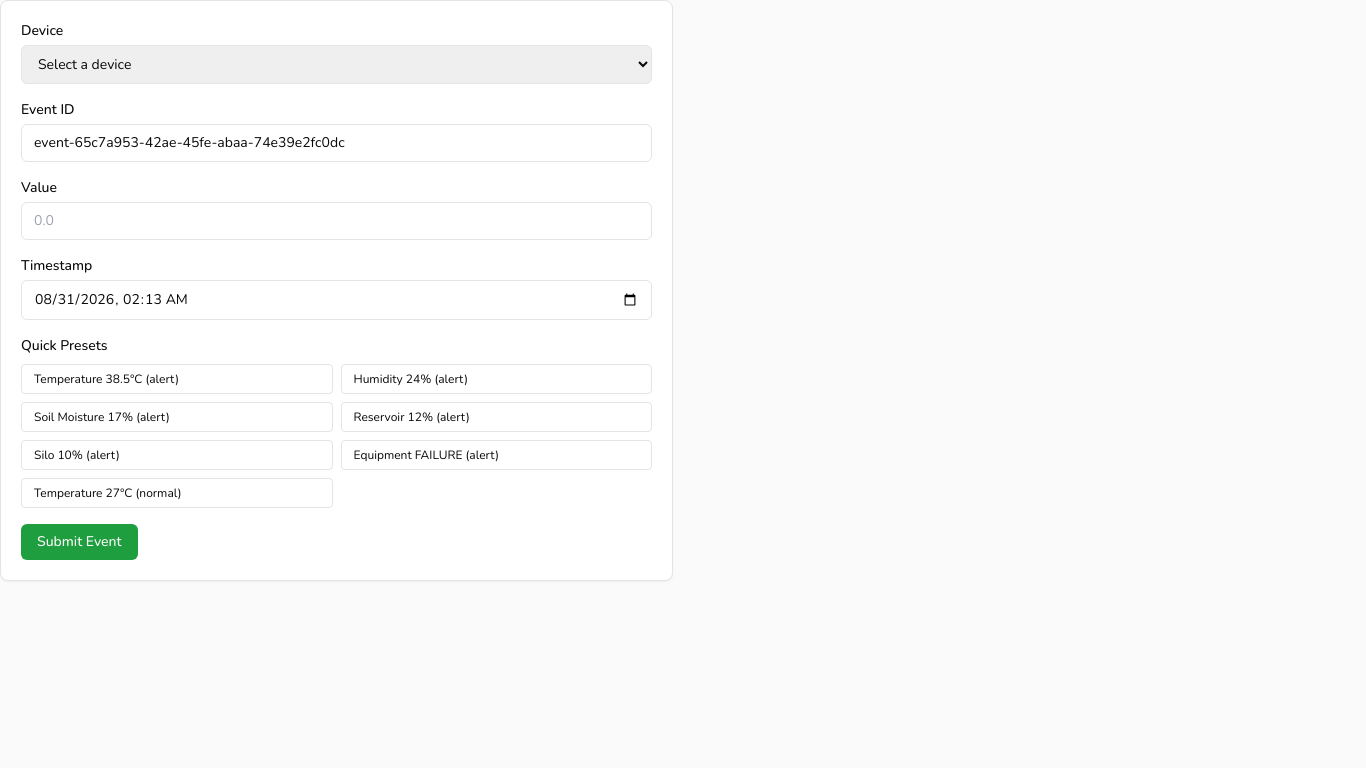
SimulatorForm › shows duplicate feedback when response has duplicate flag
Select "Temp Sensor (sensor-temp-01)" in the dropdown labelled "Device": (336, 64) [21,45,652,84]
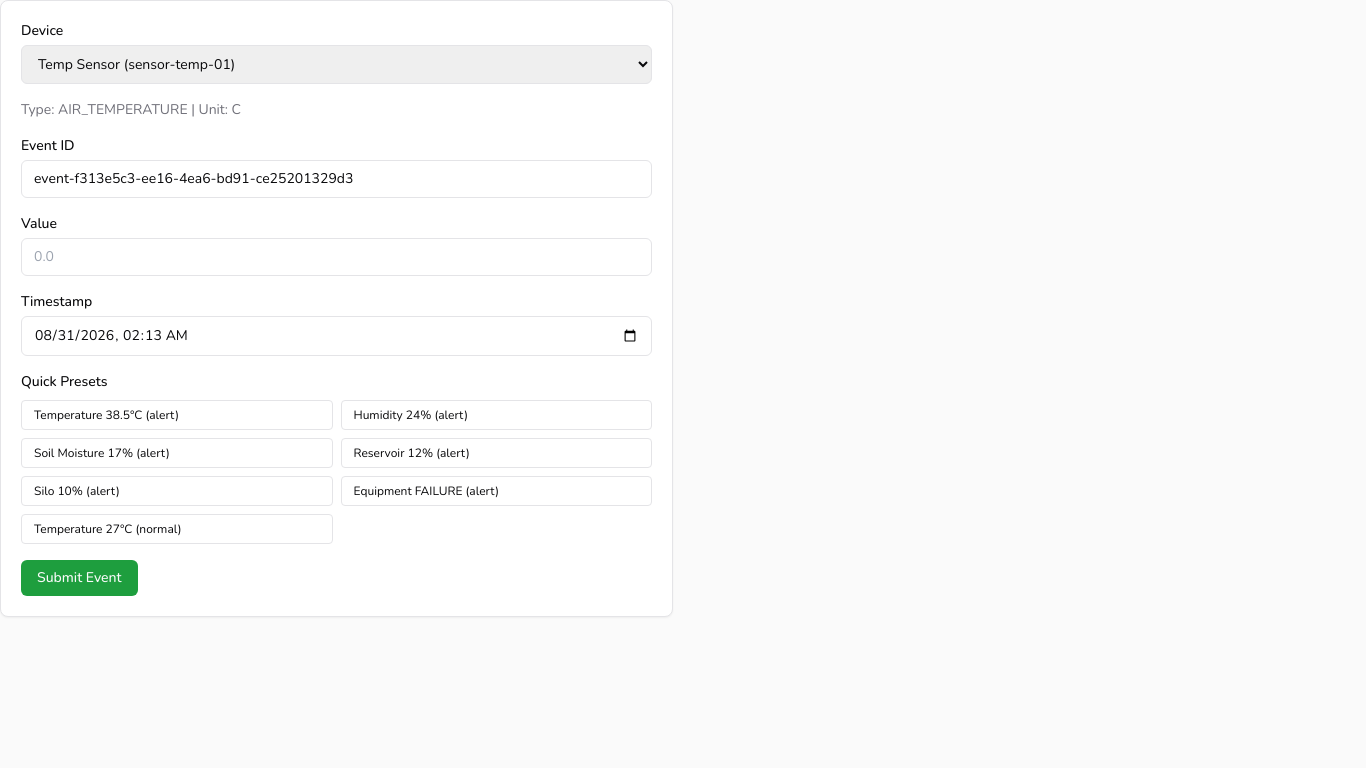
In the number field labelled "Value": (336, 257) [21,238,652,276], type "38.5"
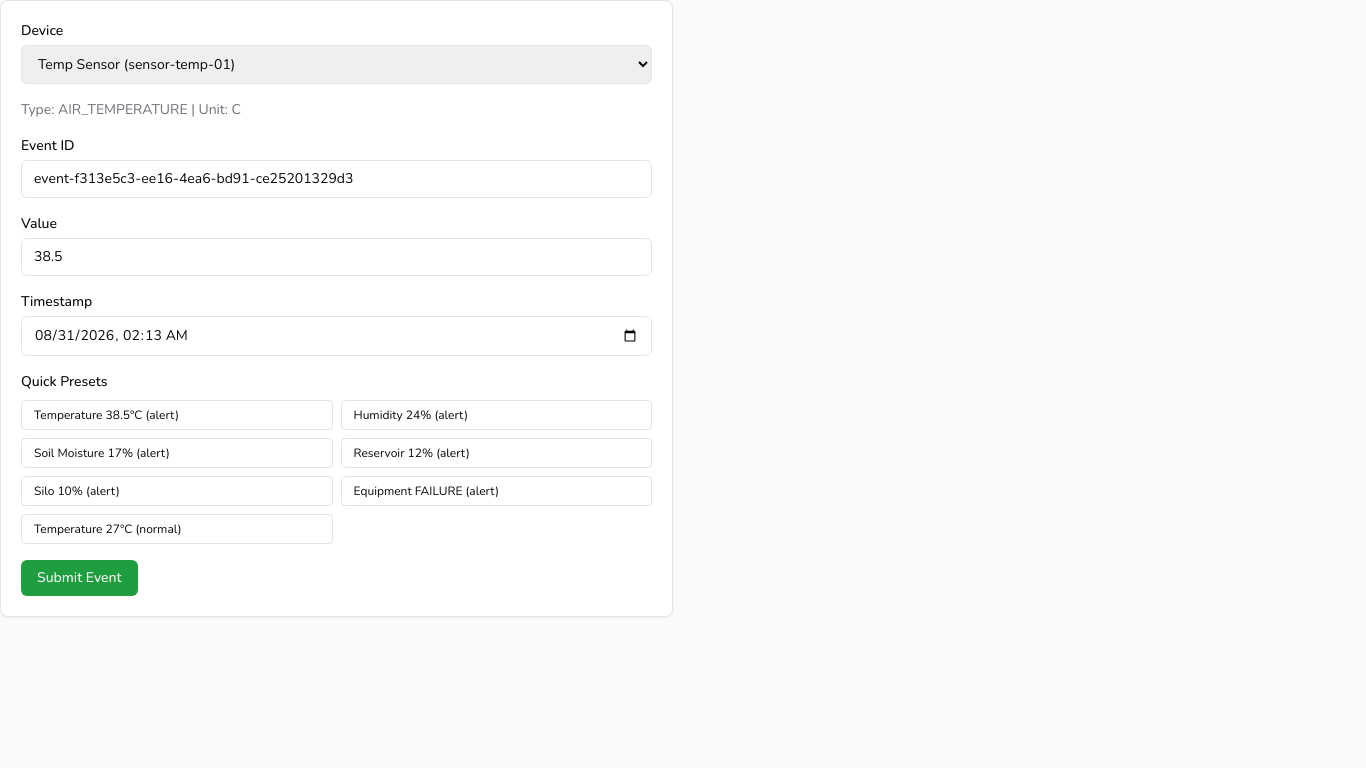
Click the button "Submit Event": (79, 578) [21,560,138,596]
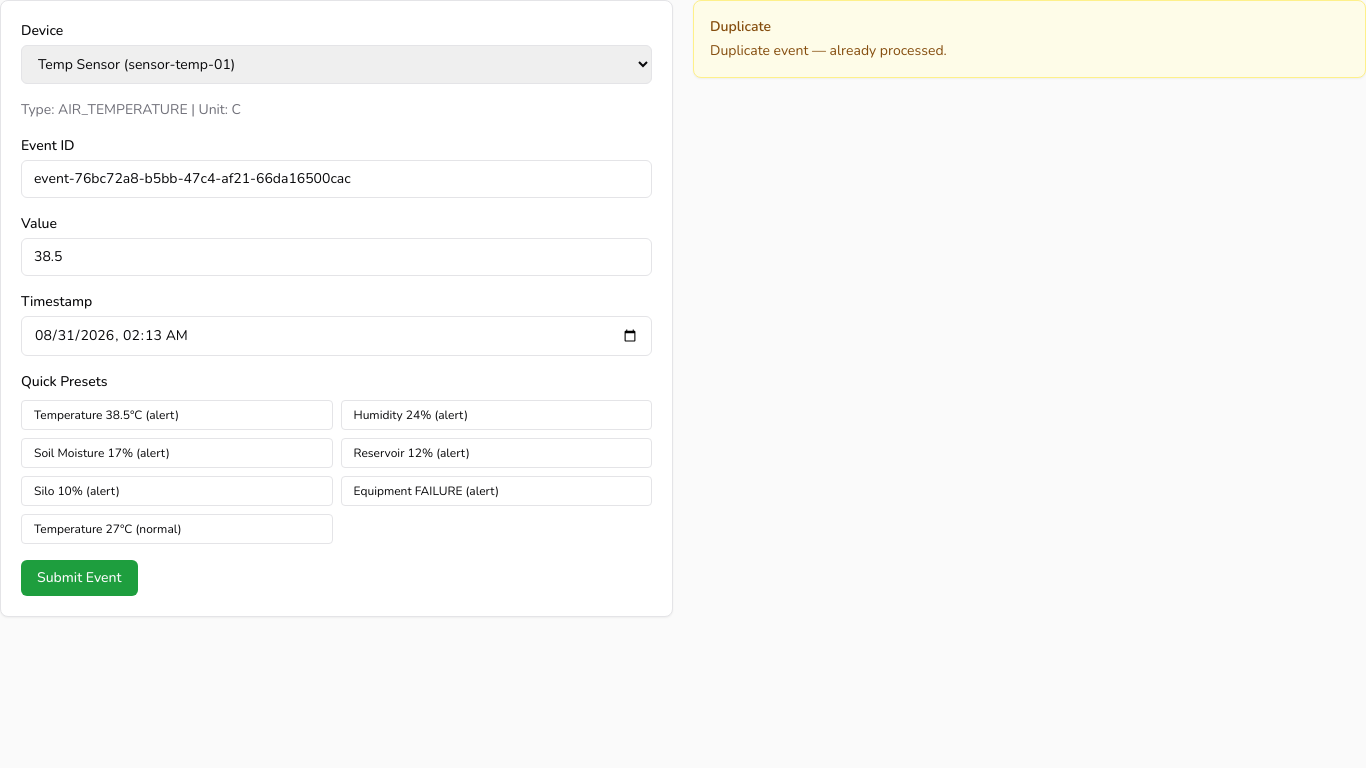
Result: the text "Duplicate event — already processed." is shown at [710,41,947,60]
